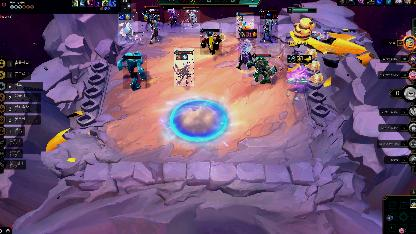1_soraka: (184, 7, 200, 29)
1_yasuo: (163, 6, 181, 26)
2_bard: (200, 29, 222, 55)
2_kaisa: (260, 9, 278, 43)
2_malphite: (252, 54, 272, 84)
2_nilah: (142, 10, 160, 44)
2_rakan: (174, 48, 194, 86)
2_soraka: (118, 12, 138, 44)
2_yasuo: (238, 28, 256, 70)
2_zac: (123, 55, 147, 89)
2_zeri: (236, 12, 254, 38)
